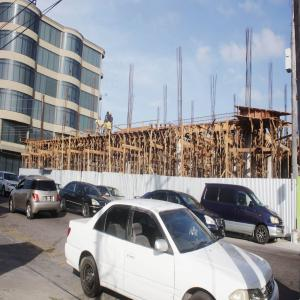none: (108, 112, 110, 116)
white: (97, 120, 99, 125)
yellow: (111, 113, 113, 118)
